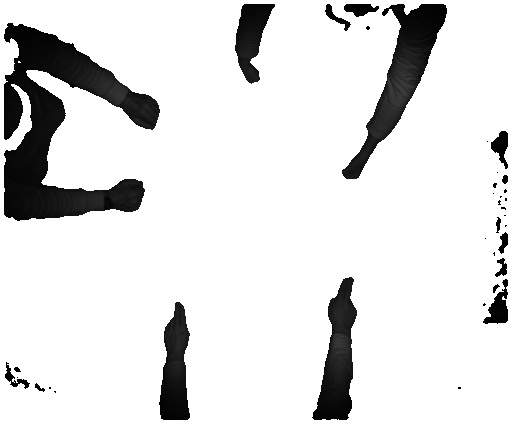fist: (108, 176, 151, 215), (124, 93, 159, 135), (336, 158, 365, 183), (232, 64, 263, 87)
hand: (328, 272, 359, 334), (160, 296, 191, 358)
